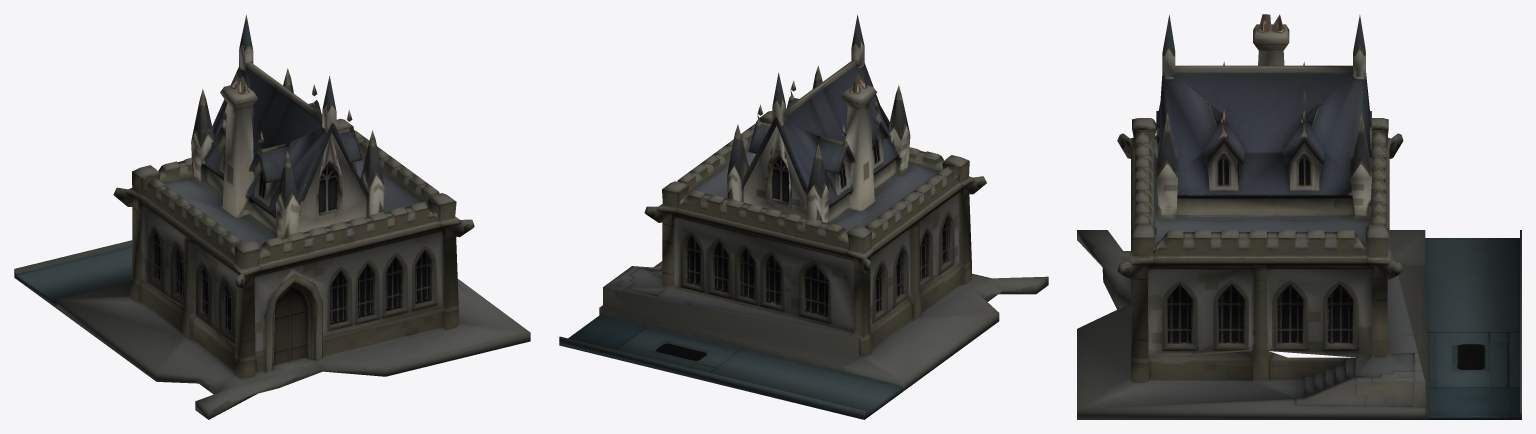
File: morgue.glb
3 views of the same model, side by side, from view 1: azimuth 30°, elevation 25°; view 2: azimuth 150°, elevation 25°; view 3: azimuth 270°, elevation 25° (orthographic). The views are drawn at different scales.
Parts seen in each view (by area): view 1: tripo_node_28c218cf-0ad8-4e8c-a9e3-74f49; view 2: tripo_node_28c218cf-0ad8-4e8c-a9e3-74f49; view 3: tripo_node_28c218cf-0ad8-4e8c-a9e3-74f49.
Boxes of the visible parts, <box> form: tripo_node_28c218cf-0ad8-4e8c-a9e3-74f49: <box>14,14,530,419</box>; tripo_node_28c218cf-0ad8-4e8c-a9e3-74f49: <box>559,14,1048,419</box>; tripo_node_28c218cf-0ad8-4e8c-a9e3-74f49: <box>1077,14,1521,419</box>.
Bounding box in the file's own units: 18.29 × 15 × 19.11.
Materials: 1 (1 with a texture image).
